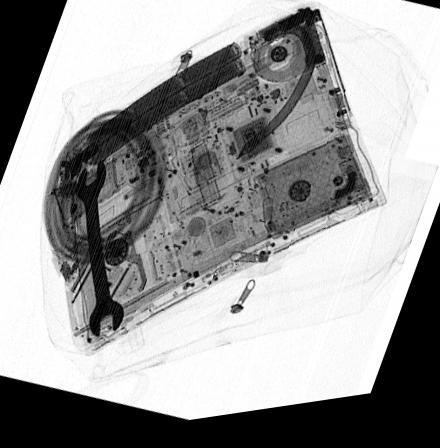Wrench: (72, 161, 126, 341)
